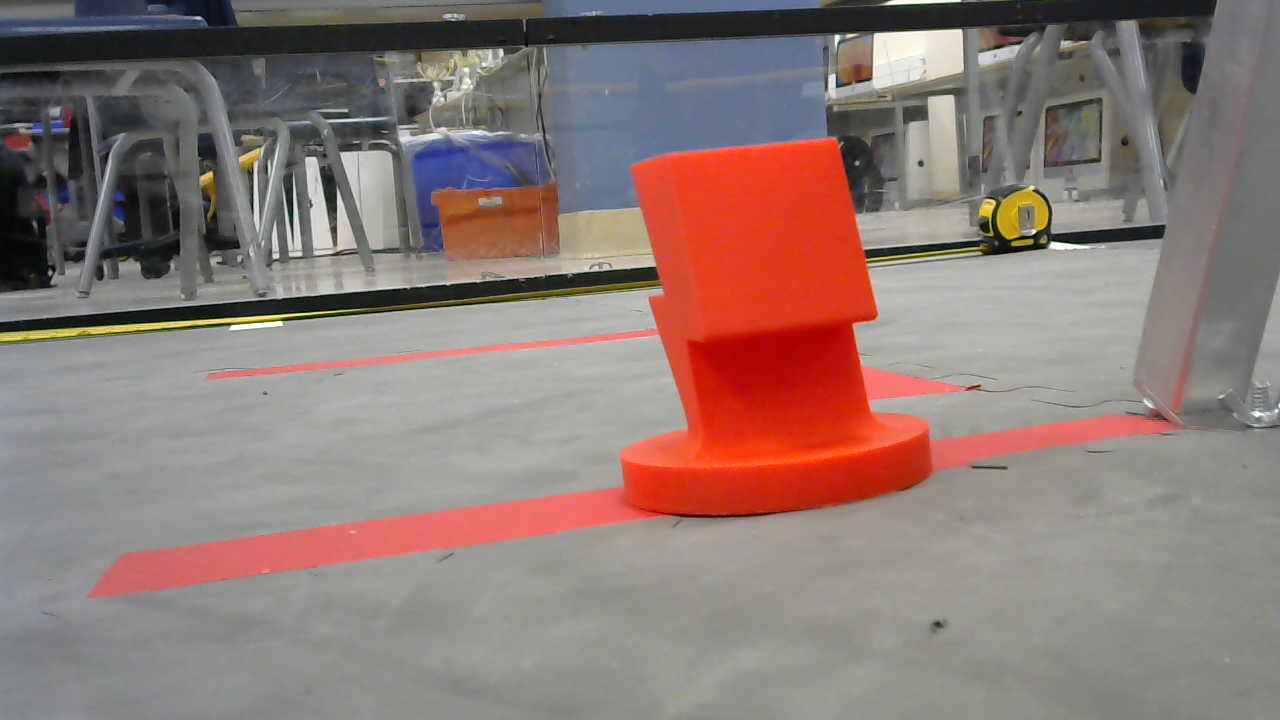redobject: (611, 130, 934, 521)
